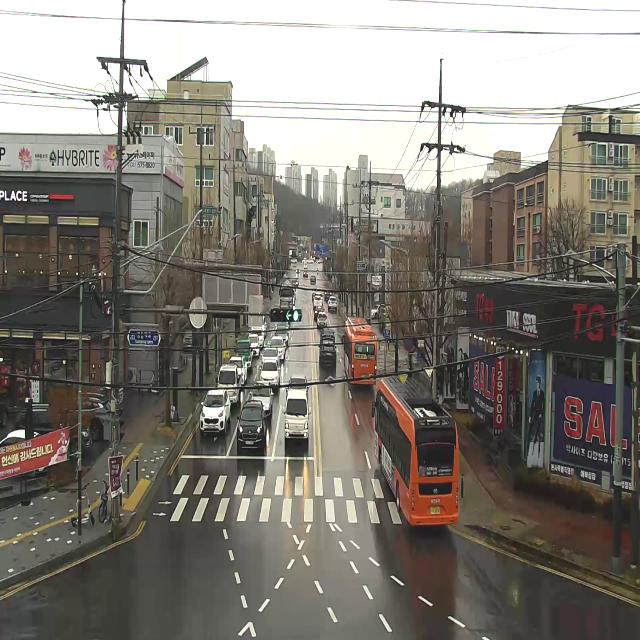Bus: (371, 375, 459, 527), (342, 317, 377, 385)
Car: (12, 412, 92, 460), (0, 429, 45, 478), (74, 392, 110, 442), (236, 400, 266, 455), (199, 389, 231, 436), (250, 381, 274, 417), (285, 374, 310, 401), (259, 359, 281, 388), (234, 339, 253, 371), (229, 358, 247, 386), (318, 340, 337, 365), (270, 336, 286, 359), (261, 348, 279, 368), (251, 315, 267, 336), (249, 327, 265, 347), (248, 334, 260, 357), (274, 329, 290, 345), (372, 304, 386, 319), (320, 328, 335, 342), (316, 311, 328, 326), (314, 305, 325, 319), (183, 331, 192, 347), (328, 297, 337, 312), (280, 299, 291, 310), (313, 293, 323, 305), (275, 322, 289, 329), (314, 296, 322, 308), (324, 290, 332, 301), (312, 288, 320, 298), (291, 280, 299, 288), (310, 275, 316, 284), (293, 289, 296, 304), (307, 258, 314, 264), (303, 270, 308, 278), (291, 258, 297, 263), (302, 258, 307, 263), (296, 268, 300, 274), (304, 262, 308, 268)
Truck: (282, 389, 312, 447), (216, 364, 242, 406), (279, 279, 294, 310)
